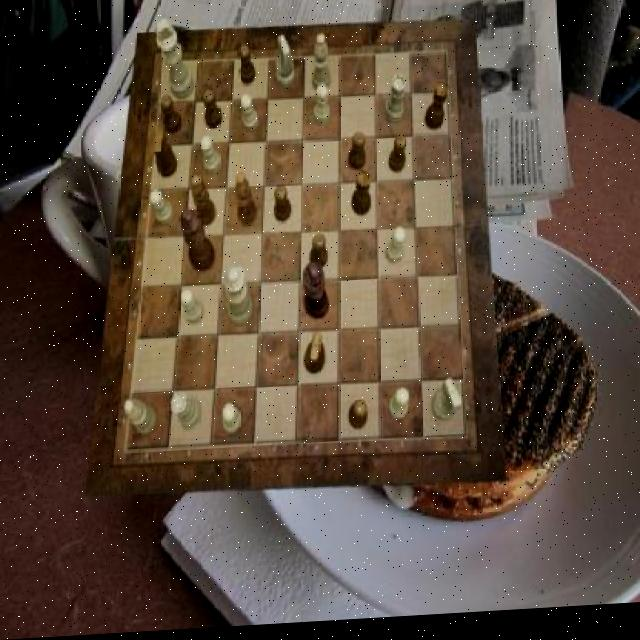bishop: (192, 178, 216, 231), (236, 174, 256, 229)
black-bishop: (303, 265, 329, 324)
black-king: (154, 130, 178, 180), (304, 336, 326, 378)
black-knight: (160, 98, 182, 137), (203, 93, 223, 132), (240, 48, 257, 89), (389, 140, 407, 178), (348, 135, 365, 174), (274, 188, 291, 226), (311, 237, 328, 272), (349, 404, 367, 434)
black-pawn: (180, 208, 215, 275)
black-queen: (426, 86, 451, 136), (352, 175, 372, 222)
black-rook: (124, 399, 158, 438), (314, 37, 331, 95)
white-bishop: (157, 20, 195, 102)
white-king: (432, 383, 462, 427), (276, 37, 294, 92)
white-knight: (151, 190, 175, 227), (202, 137, 222, 177), (182, 292, 204, 328), (240, 96, 259, 135), (386, 232, 406, 269), (314, 89, 331, 130), (388, 393, 408, 427), (223, 406, 242, 438)
white-pawn: (223, 268, 253, 330)
white-queen: (171, 392, 201, 431), (384, 80, 406, 128)
